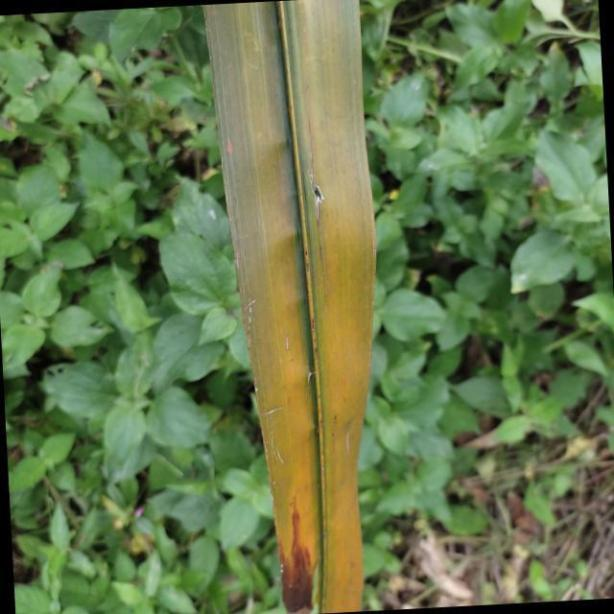Megnesium: (206, 1, 380, 614)
